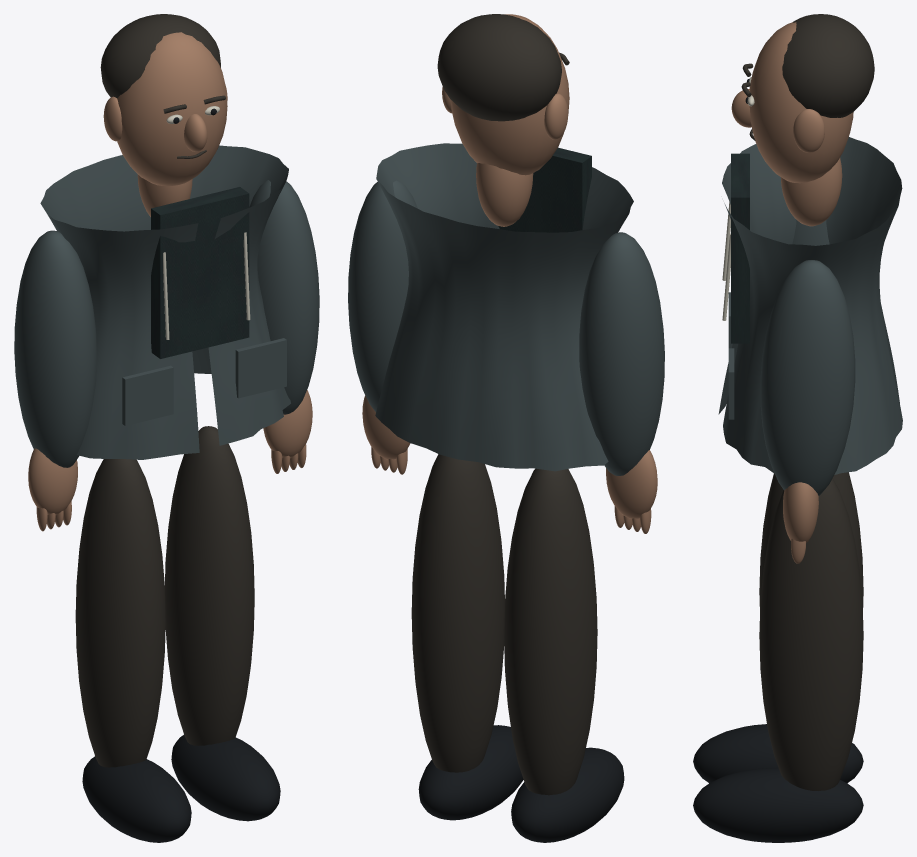
Rendered from rival.glb.
The picture shows the model from 3 angles, left to right: view 1: azimuth 30°, elevation 25°; view 2: azimuth 150°, elevation 25°; view 3: azimuth 270°, elevation 25°; orthographic projection. The views are drawn at different scales.
Visible parts, largest first — view 1: School jacket, Trouser, Trouser.001, Sleeve, Shirt, Face, Sleeve.001, Boot.001, Boot, Hair, Jacket pocket, Jacket pocket.001 (+5 smaller); view 2: School jacket, Trouser, Trouser.001, Sleeve, Hair, Sleeve.001, Boot, Boot.001, Face, Shirt, Neck, Hand (+2 smaller); view 3: School jacket, Trouser.001, Sleeve.001, Boot.001, Hair, Face, Boot, Shirt, Neck, Trouser, Hand.001, Ear.001 (+3 smaller).
Part boxes in pixels (x1,y1,x2,y2): School jacket: (40,145,290,459); Trouser: (75,459,165,767); Trouser.001: (165,426,254,745); Sleeve: (14,230,96,467); Shirt: (151,187,249,358); Face: (117,32,227,186); Sleeve.001: (249,180,319,414); Boot.001: (171,735,280,821); Boot: (82,756,191,842); Hair: (100,14,220,98); Jacket pocket: (122,365,173,425); Jacket pocket.001: (235,338,286,398); School jacket: (375,143,633,471); Trouser: (504,468,597,795); Trouser.001: (411,454,504,772); Sleeve: (579,232,664,475); Hair: (437,14,561,121); Sleeve.001: (348,180,417,411); Boot: (511,747,624,842); Boot.001: (418,725,523,820); Face: (450,14,569,175); Shirt: (498,147,591,232); Neck: (476,163,533,226); Hand: (606,450,657,518); School jacket: (718,137,902,474); Trouser.001: (759,478,863,790); Sleeve.001: (760,260,855,495); Boot.001: (693,767,863,842); Hair: (782,14,874,117); Face: (749,22,853,183); Boot: (693,724,863,783); Shirt: (731,153,749,343); Neck: (780,158,842,226); Trouser: (759,472,863,609); Hand.001: (783,482,818,542); Ear.001: (793,109,824,152).
Size of the model in its own units: 0.5544 by 1.43 by 0.3411.
6 materials, 1 textured.
